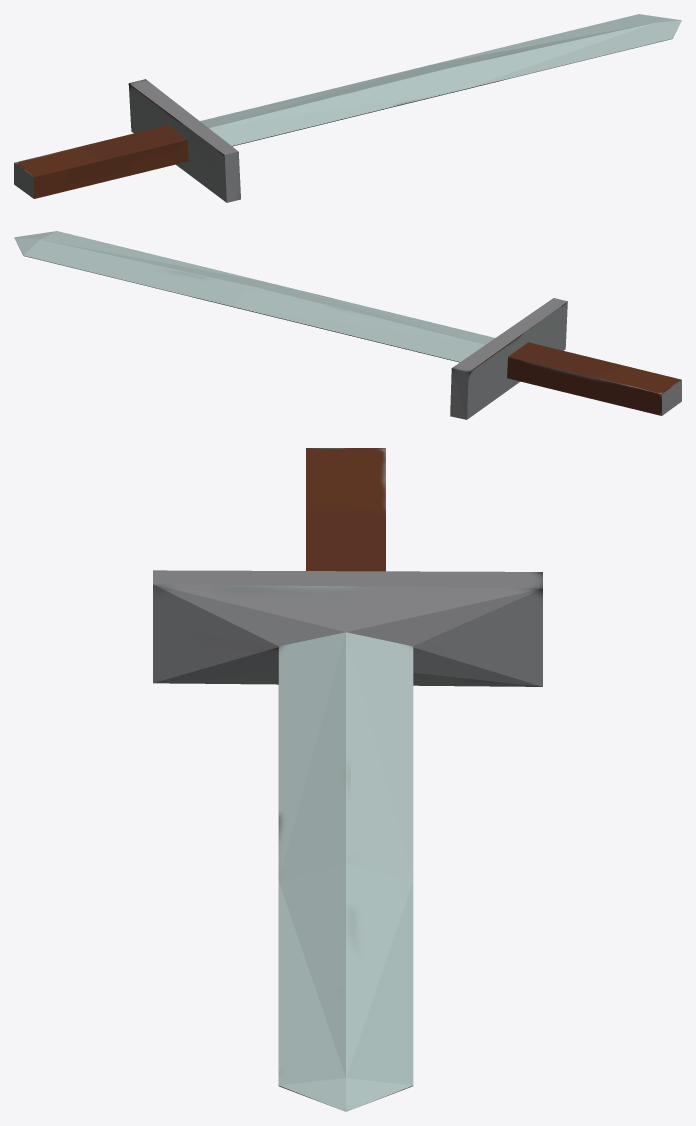
The model's file is Sword.dae.
3 views of the same model, one above another, from view 1: azimuth 30°, elevation 25°; view 2: azimuth 150°, elevation 25°; view 3: azimuth 270°, elevation 25° (orthographic). The views are drawn at different scales.
Parts seen in each view (by area): view 1: Cube; view 2: Cube; view 3: Cube.
Part boxes in pixels (x1=…): Cube: x1=14, y1=14, x2=681, y2=202; Cube: x1=14, y1=231, x2=681, y2=419; Cube: x1=153, y1=448, x2=542, y2=1111.
Size of the model in its own units: 0.9825 by 0.2524 by 0.0691.
